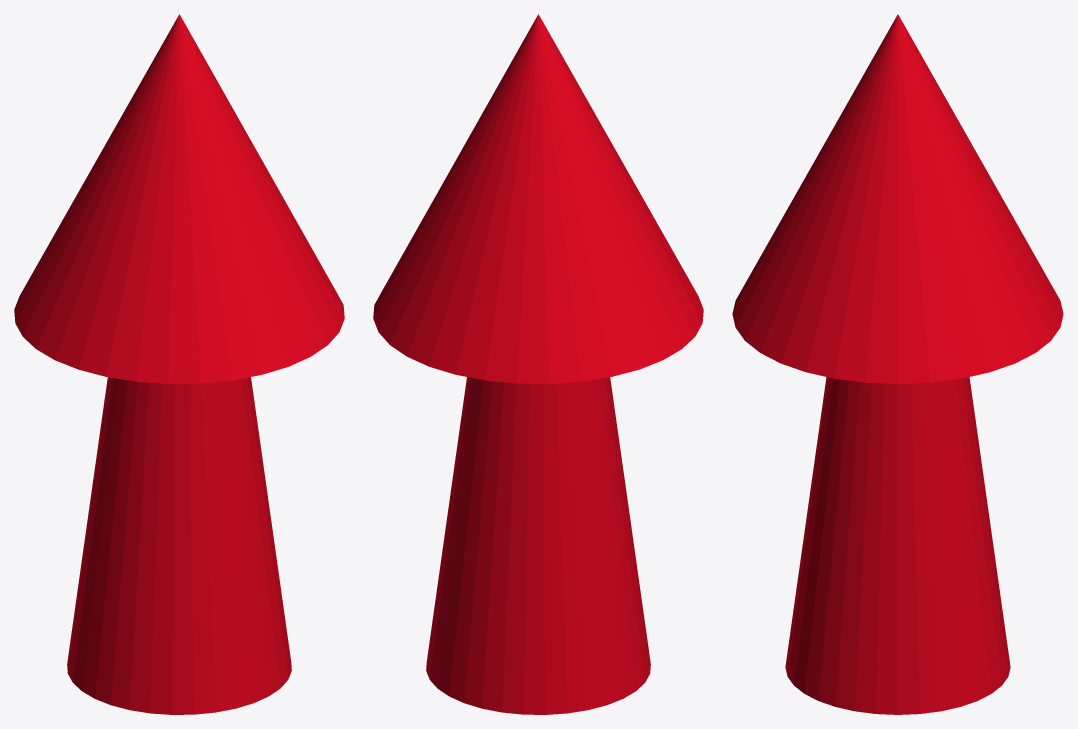
The model's file is arrow.fbx.
The picture shows the model from 3 angles, left to right: view 1: azimuth 30°, elevation 25°; view 2: azimuth 150°, elevation 25°; view 3: azimuth 270°, elevation 25°; orthographic projection.
Parts seen in each view (by area): view 1: arrow; view 2: arrow; view 3: arrow.
Part boxes in pixels (<box>): arrow: <box>14,14,344,714</box>; arrow: <box>373,14,703,714</box>; arrow: <box>732,14,1063,714</box>.
Size of the model in its own units: 165 by 360 by 165.
